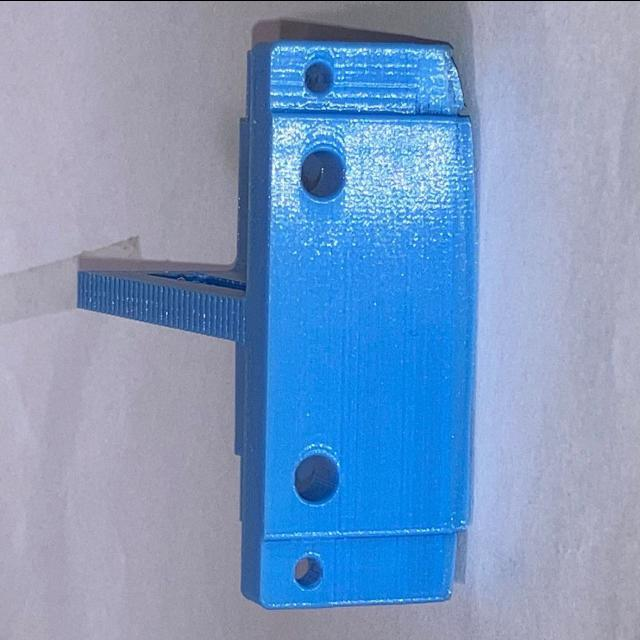Warping: (439, 41, 473, 115)
